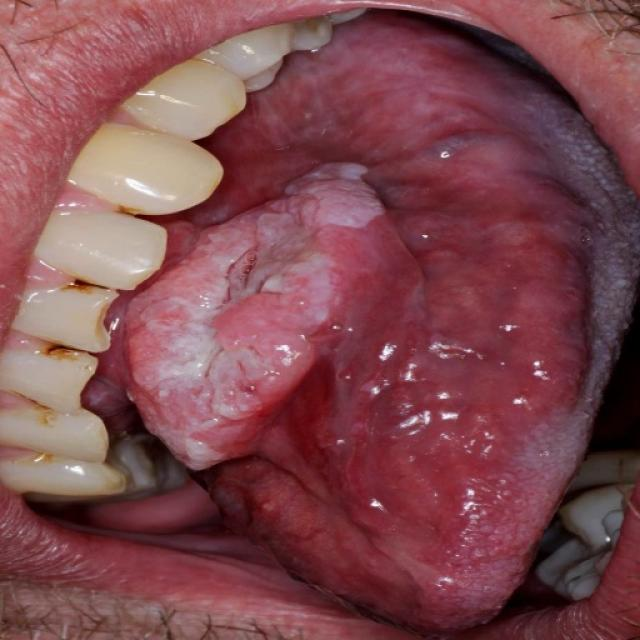cancer-detection: (124, 152, 410, 481)
processing_area: (95, 6, 637, 639)
